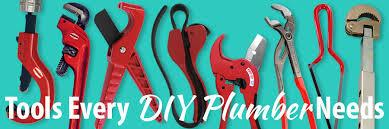wrench: (54, 0, 91, 128)
